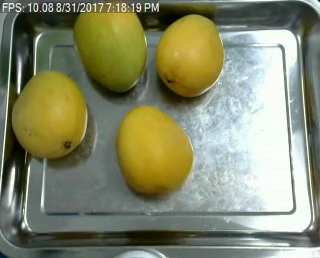Mango: (113, 105, 192, 196), (71, 0, 149, 89), (10, 72, 89, 158), (158, 14, 224, 96)
